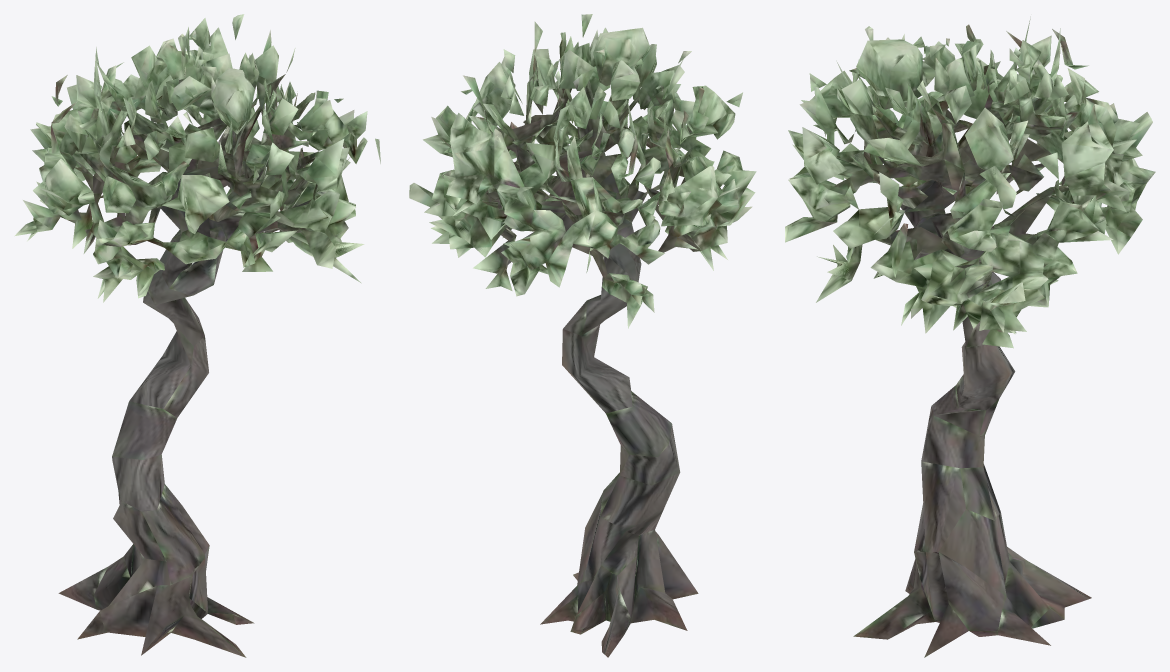
The model's file is olive_tree.glb.
3 renders of one model, left to right at view 1: azimuth 30°, elevation 25°; view 2: azimuth 150°, elevation 25°; view 3: azimuth 270°, elevation 25°, orthographic. The views are drawn at different scales.
Visible parts, largest first — view 1: 0; view 2: 0; view 3: 0.
Part boxes in pixels (x1,y1,x2,y2): 0: (14, 14, 380, 657); 0: (409, 14, 756, 657); 0: (785, 16, 1155, 657).
Size of the model in its own units: 1.08 by 1.8 by 1.
Materials: 1 (1 with a texture image).
